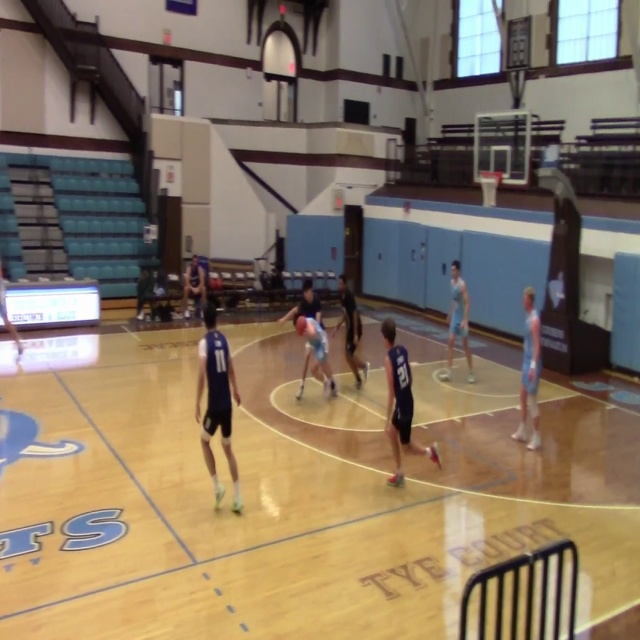Basketball: (295, 316, 307, 335), (304, 325, 317, 340)
